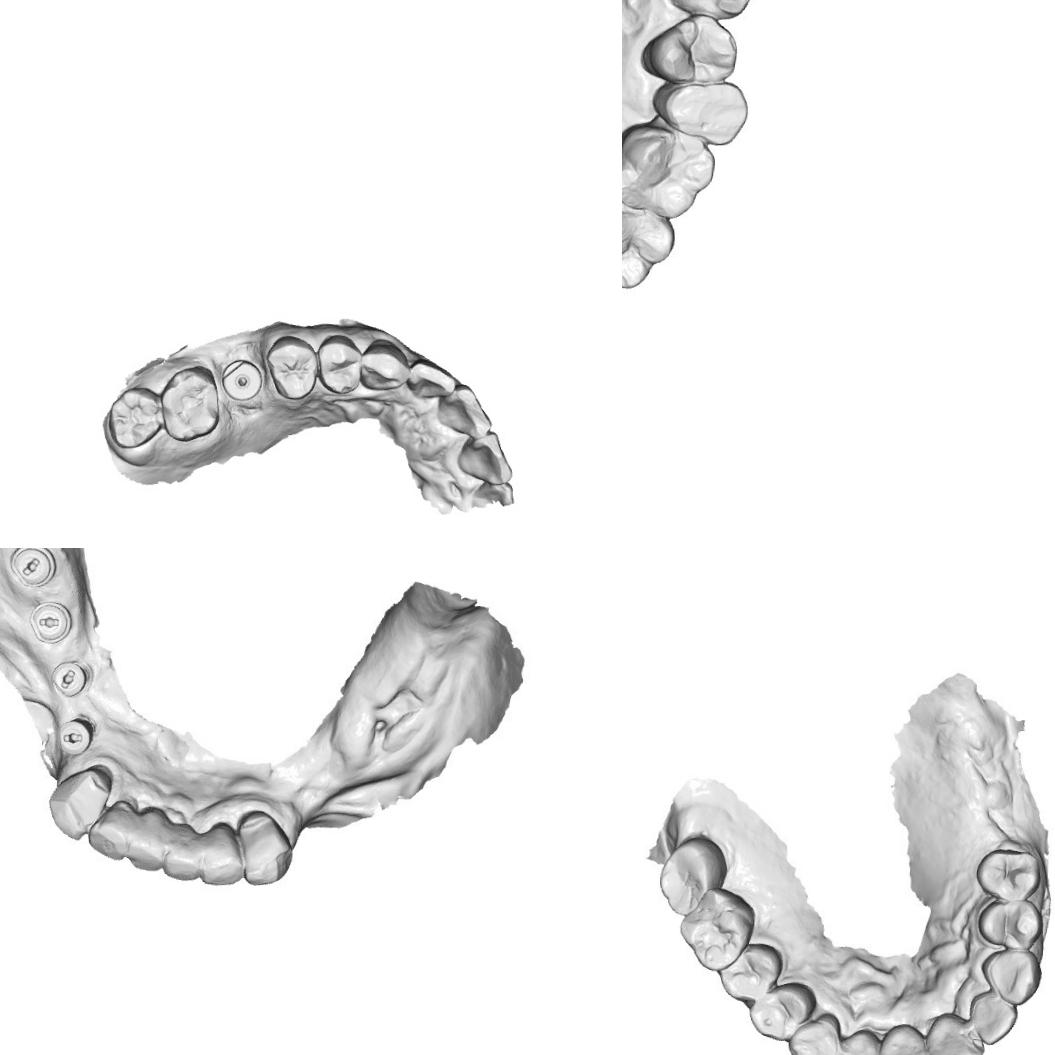canine: (234, 803, 297, 890), (46, 760, 115, 839), (978, 946, 1045, 1006), (358, 336, 411, 392), (784, 1011, 840, 1055), (662, 0, 756, 23)
crown: (647, 74, 751, 144)
implant: (220, 358, 265, 402)
implant_minus: (46, 650, 101, 708), (28, 594, 82, 652), (51, 708, 104, 761), (0, 548, 60, 594)
incisor: (433, 380, 494, 440), (454, 427, 514, 486), (966, 992, 1018, 1045), (163, 819, 209, 877), (201, 821, 242, 885), (925, 1012, 986, 1055), (405, 358, 457, 402), (129, 807, 169, 863), (94, 796, 130, 855), (875, 1019, 934, 1055), (831, 1027, 879, 1055)
molar: (622, 116, 720, 223), (675, 887, 756, 972), (622, 186, 679, 292), (656, 834, 728, 917), (158, 361, 223, 443), (104, 382, 164, 452)
premolar: (638, 6, 737, 88), (745, 978, 818, 1043), (716, 942, 782, 1004), (974, 844, 1042, 904), (264, 332, 321, 402), (975, 896, 1045, 950), (314, 332, 364, 396)
